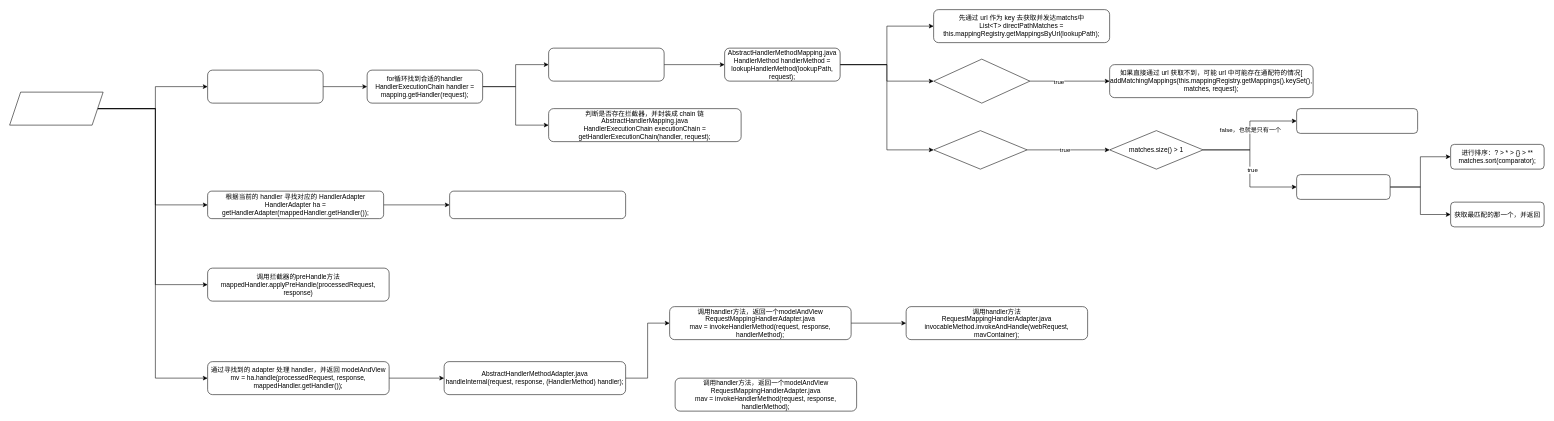
Image size: 1554x421. Some labels were removed from this diagram. The centre of each missing label's shape, as x and y in pixels:
!matches.isEmpty(): (980,149)
AbstractHandlerMapping.java Object handler = getHandlerInternal(request);: (606,64)
DispatcherServlet.java doDispatch(...): (56,108)
Match bestMatch = matches.get(0);: (1357,120)
matches.isEmpty(): (981,81)
开启for循环判断你的handler 是什么类型的，来寻找合适的adapter，这里就以 HttpRequestHandler 为例: (537,205)
执行逻辑: (1343,186)
通过 URL 获取具体的 handler mappedHandler = getHandler(processedRequest);: (265,86)
